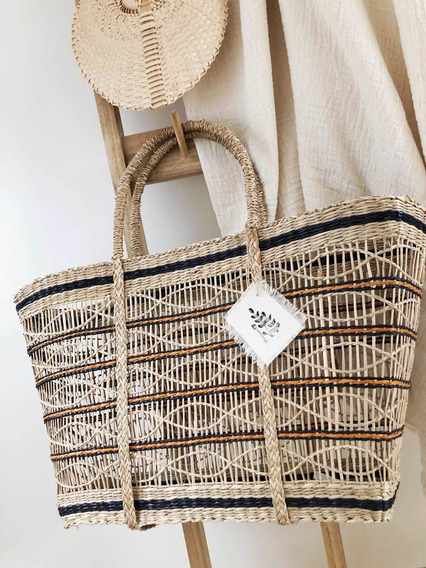cartera: (14, 117, 426, 532)
